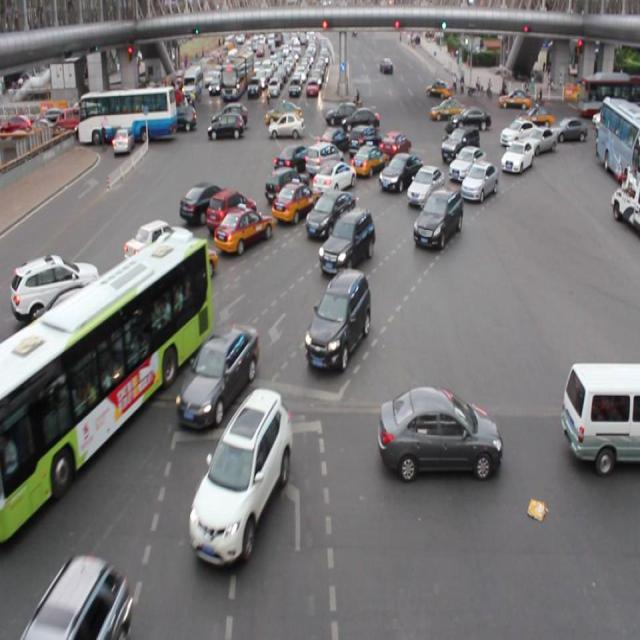car: (188, 388, 292, 562), (376, 388, 498, 478), (21, 557, 130, 640), (177, 325, 258, 423), (21, 284, 119, 360), (304, 268, 370, 370), (11, 254, 100, 321), (131, 241, 215, 302), (318, 207, 374, 274), (213, 204, 274, 258), (124, 222, 192, 266), (412, 188, 462, 246), (304, 188, 356, 238), (204, 190, 258, 234), (272, 180, 325, 223), (180, 182, 230, 220), (405, 163, 445, 210), (312, 160, 356, 200), (264, 166, 308, 206), (378, 152, 424, 190), (459, 160, 496, 200), (439, 126, 479, 163), (349, 142, 387, 178), (447, 145, 485, 180), (510, 128, 556, 155), (498, 117, 537, 148), (378, 130, 411, 166), (273, 145, 314, 173), (499, 140, 532, 173), (345, 126, 378, 157), (318, 126, 350, 155)
truck: (563, 360, 640, 473), (303, 143, 344, 178)
van: (1, 241, 210, 541)
